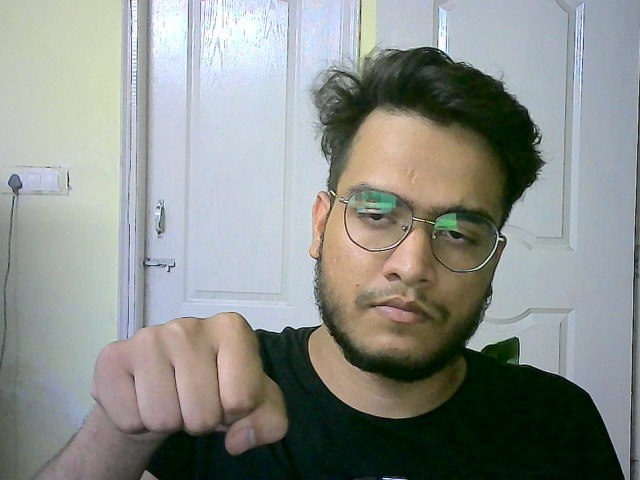Yes: (76, 304, 293, 455)
